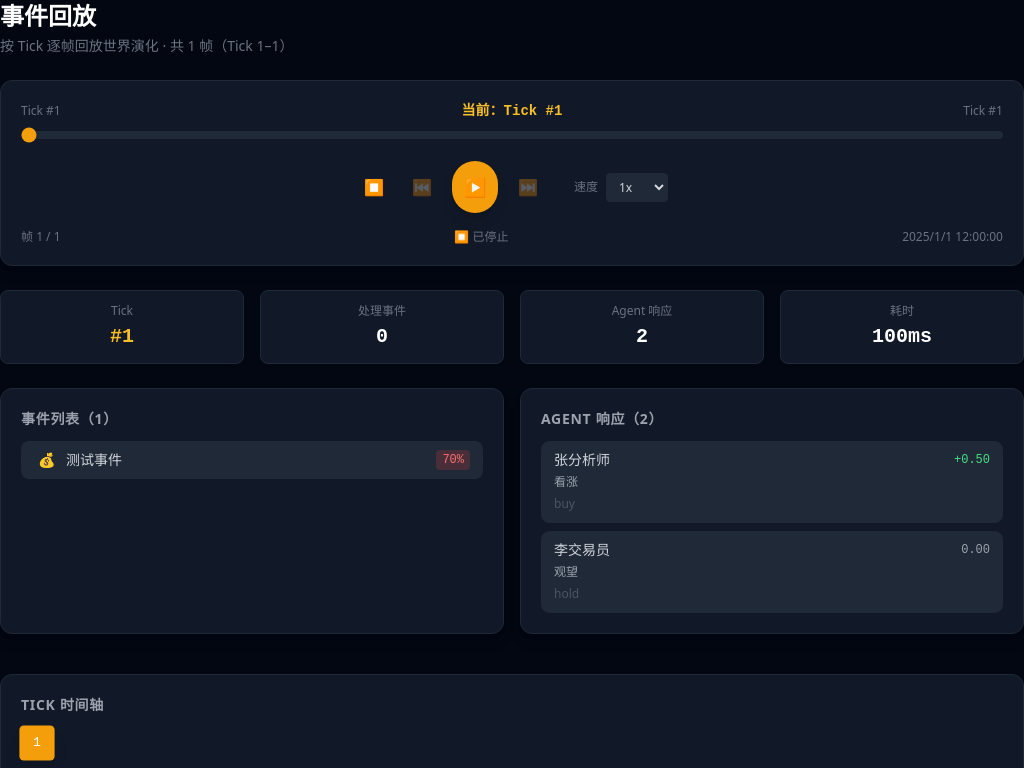
Test: TimelineReplay › 点击事件应只显示关联的 Agent 响应
The image size is (1024, 768).
Expected: the text "张分析师" is shown, left=554, top=450, right=610, bottom=470
Expected: the text "李交易员" is shown, left=554, top=540, right=610, bottom=560
Click the button with test id "event-item-e1": (94, 460) left=21, top=441, right=483, bottom=479
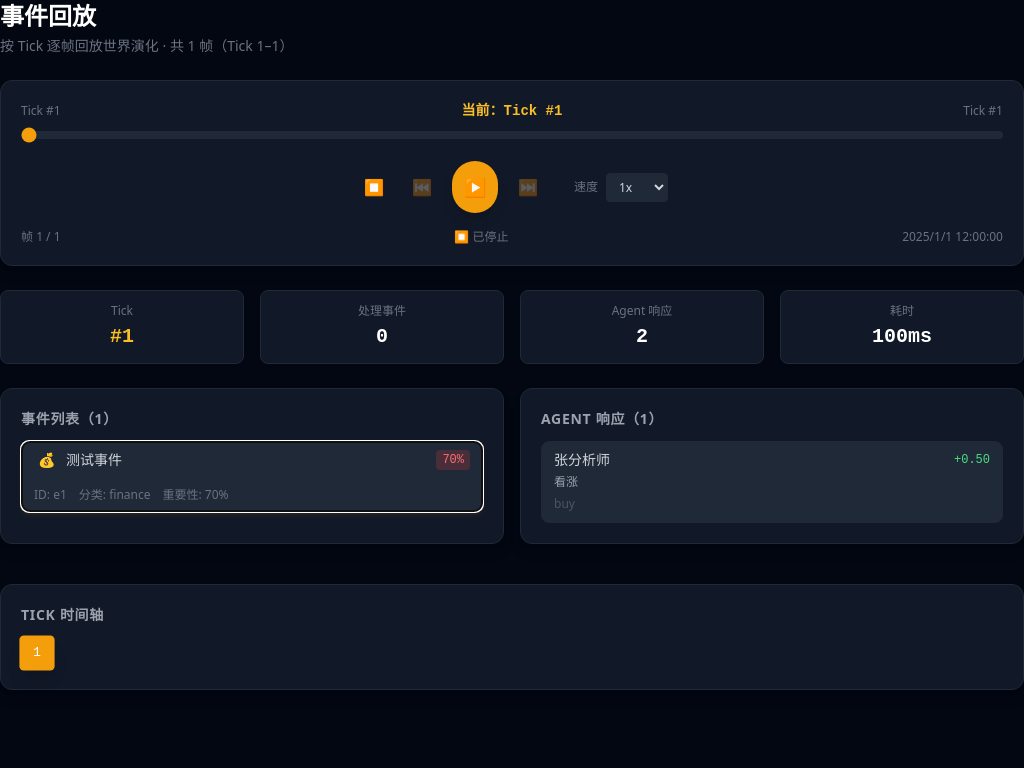
Expected: the text "张分析师" is shown, left=554, top=450, right=610, bottom=470
Result: the text "李交易员" is gone
Result: the heading "Agent 响应（1）" is shown at left=541, top=409, right=663, bottom=428
